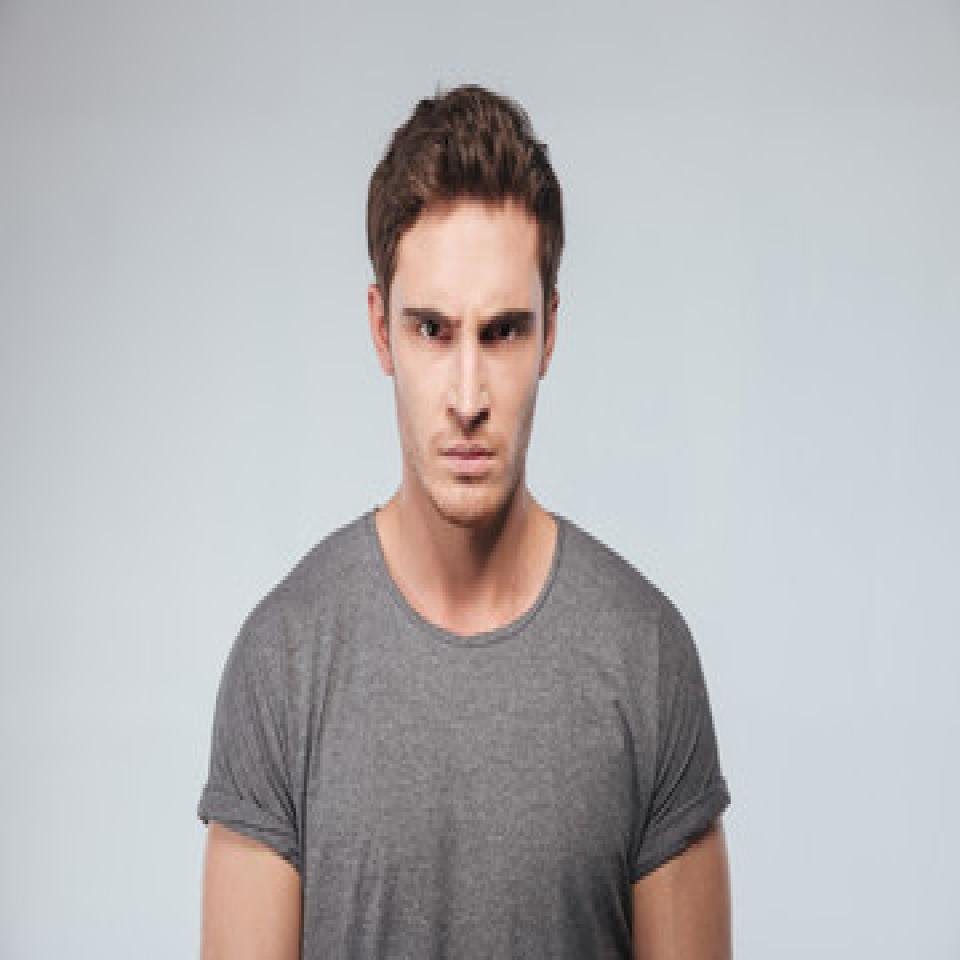Anger: (385, 202, 544, 525)
